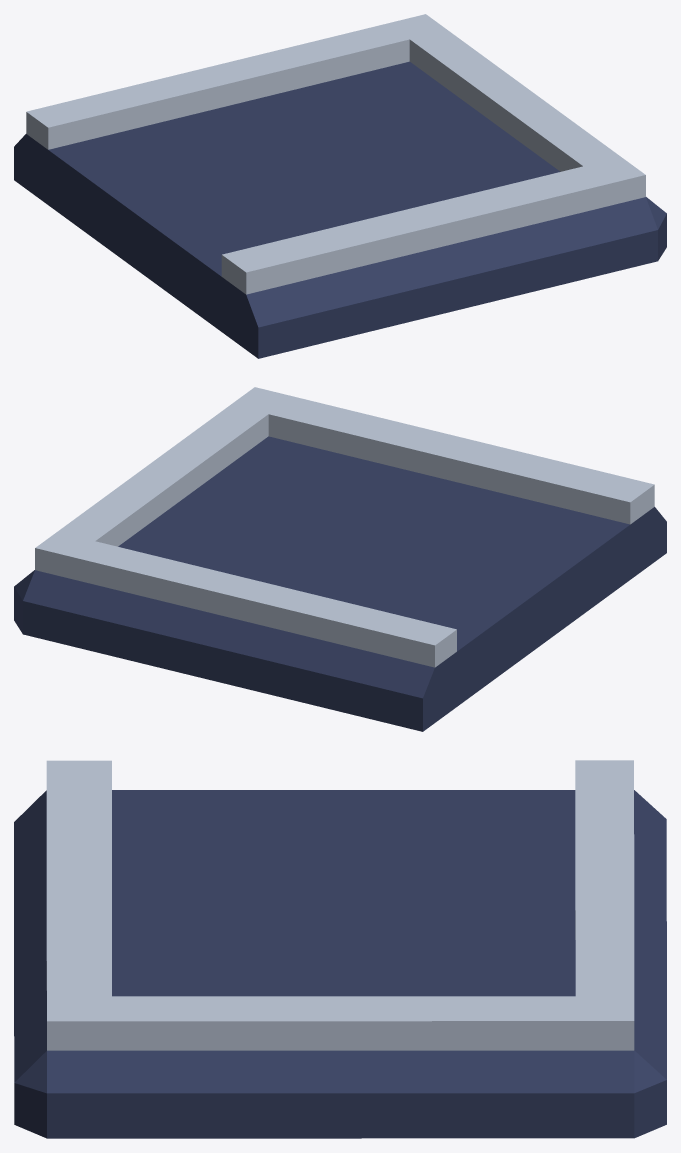
Rendered from base_deadend_1x1.fbx.
3 views of the same model, one above another, from view 1: azimuth 30°, elevation 25°; view 2: azimuth 150°, elevation 25°; view 3: azimuth 270°, elevation 25° (orthographic). The views are drawn at different scales.
Visible parts, largest first — view 1: base_deadend_1x1; view 2: base_deadend_1x1; view 3: base_deadend_1x1.
Part boxes in pixels (bbox=[...]): base_deadend_1x1: bbox=[14, 14, 666, 358]; base_deadend_1x1: bbox=[14, 387, 666, 731]; base_deadend_1x1: bbox=[14, 760, 666, 1138].
Size of the model in its own units: 199 by 35 by 200.
